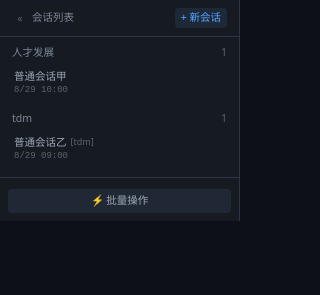
Scenario: T-1041 批量模式内开关：默认关不展示，打开后展示且带🧪徽标
Click the button titled "进入批量操作：勾选多个会话归档/恢复" at (120, 201), box [8,189,231,213]
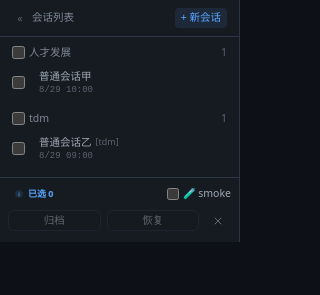
Check: the text "冒烟会话丙" is not shown
Click the label titled "显示 smoke 隔离区冒烟会话" at (199, 194), box [166,186,231,202]
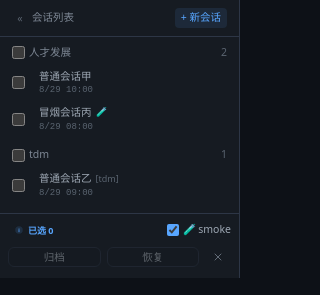
Check: the text "冒烟会话丙" is shown, box [39,105,92,121]
Check: the text titled "smoke 隔离区冒烟会话（验收/调试产物）" is shown, box [96,106,106,119]
